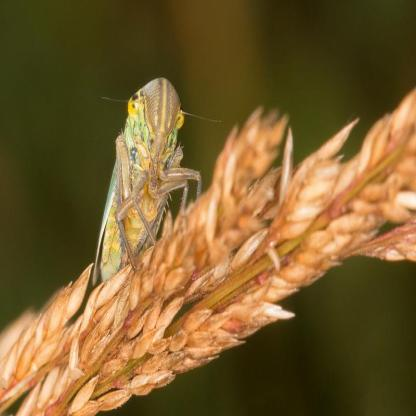Green-Leafhopper: (88, 72, 208, 296)
